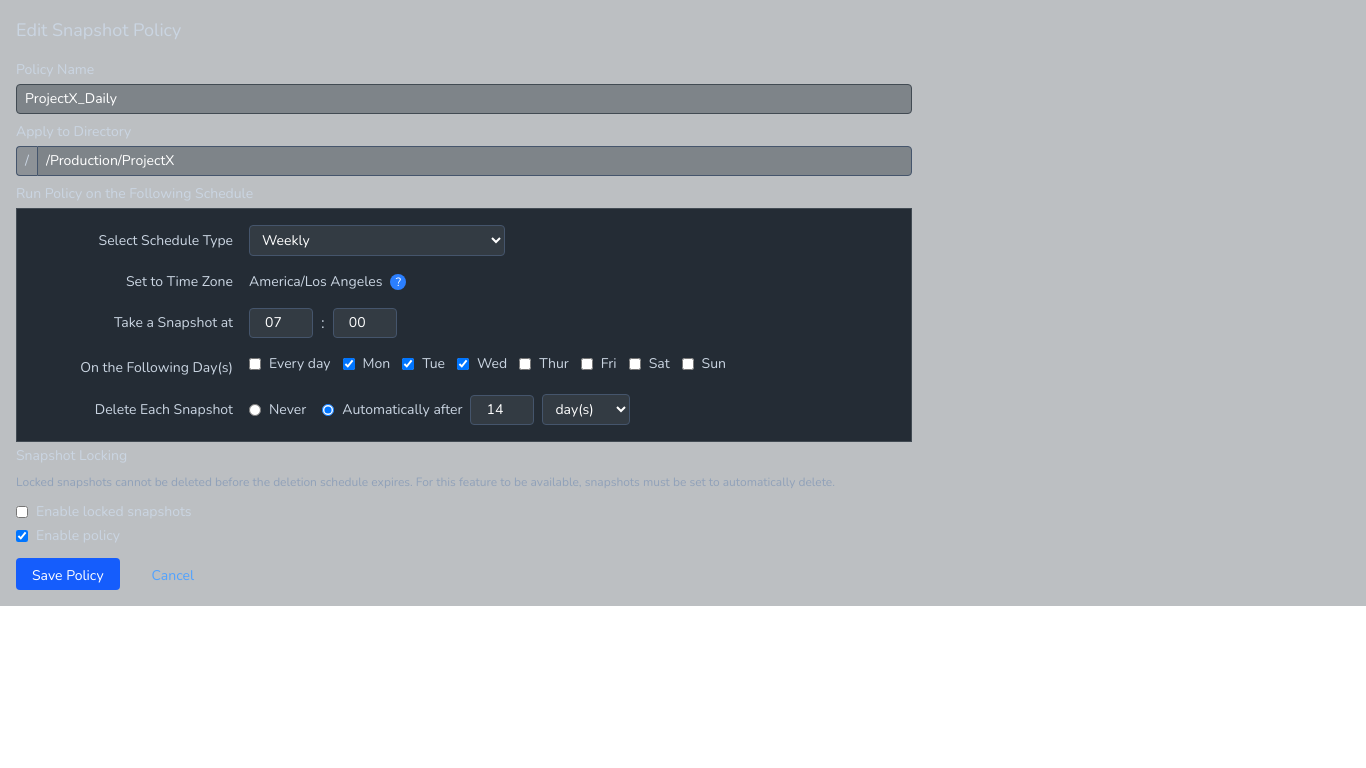
SnapshotPolicyForm › Schedule Type Logic › automatically sets all days when switching to Daily
# Switch to Daily
Select "Daily" in the dropdown showing "Weekly" next to "Select Schedule Type": (377, 240) x1=249 y1=225 x2=505 y2=256
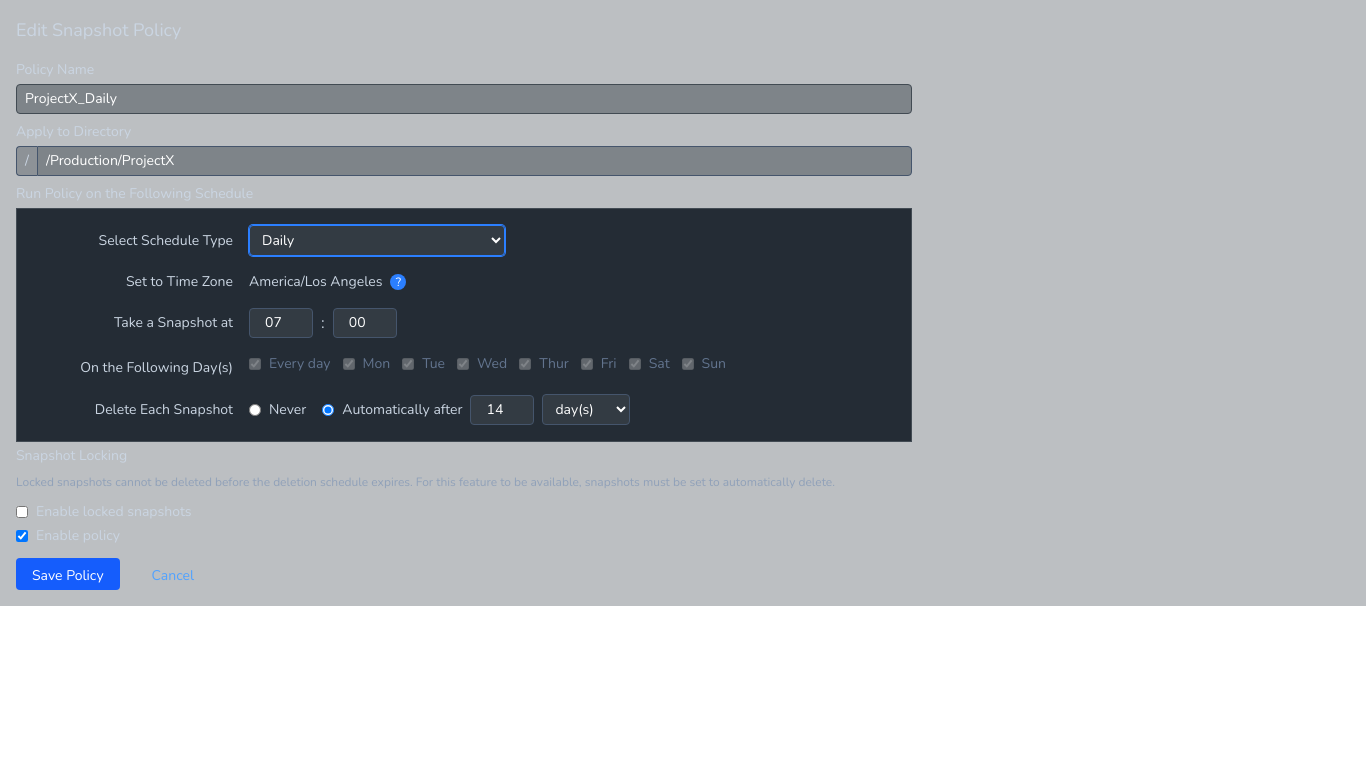
Expected: the checkbox labelled "Every day" is checked, x1=249 y1=358 x2=261 y2=370
Expected: the checkbox labelled "Every day" is disabled, x1=249 y1=358 x2=261 y2=370
